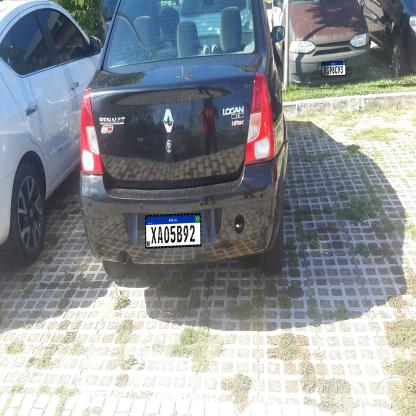PlacaM: (145, 213, 201, 249), (321, 60, 346, 76)
